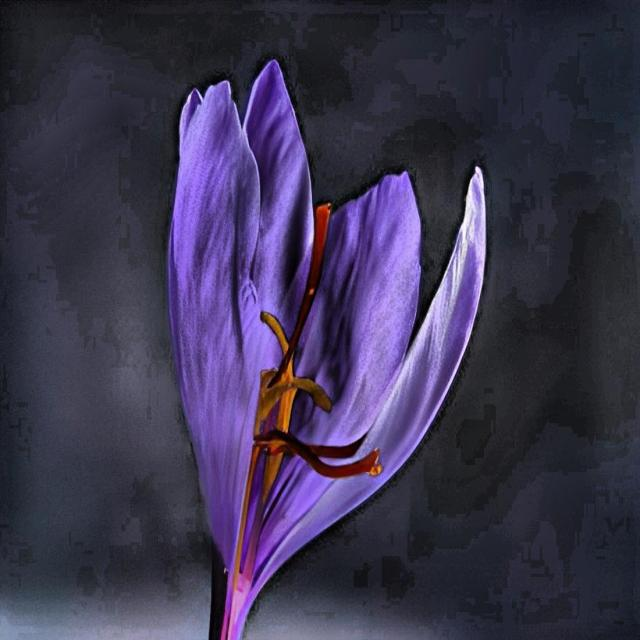Flower: (165, 47, 492, 640)
stigma: (271, 196, 337, 379), (266, 428, 385, 482)
